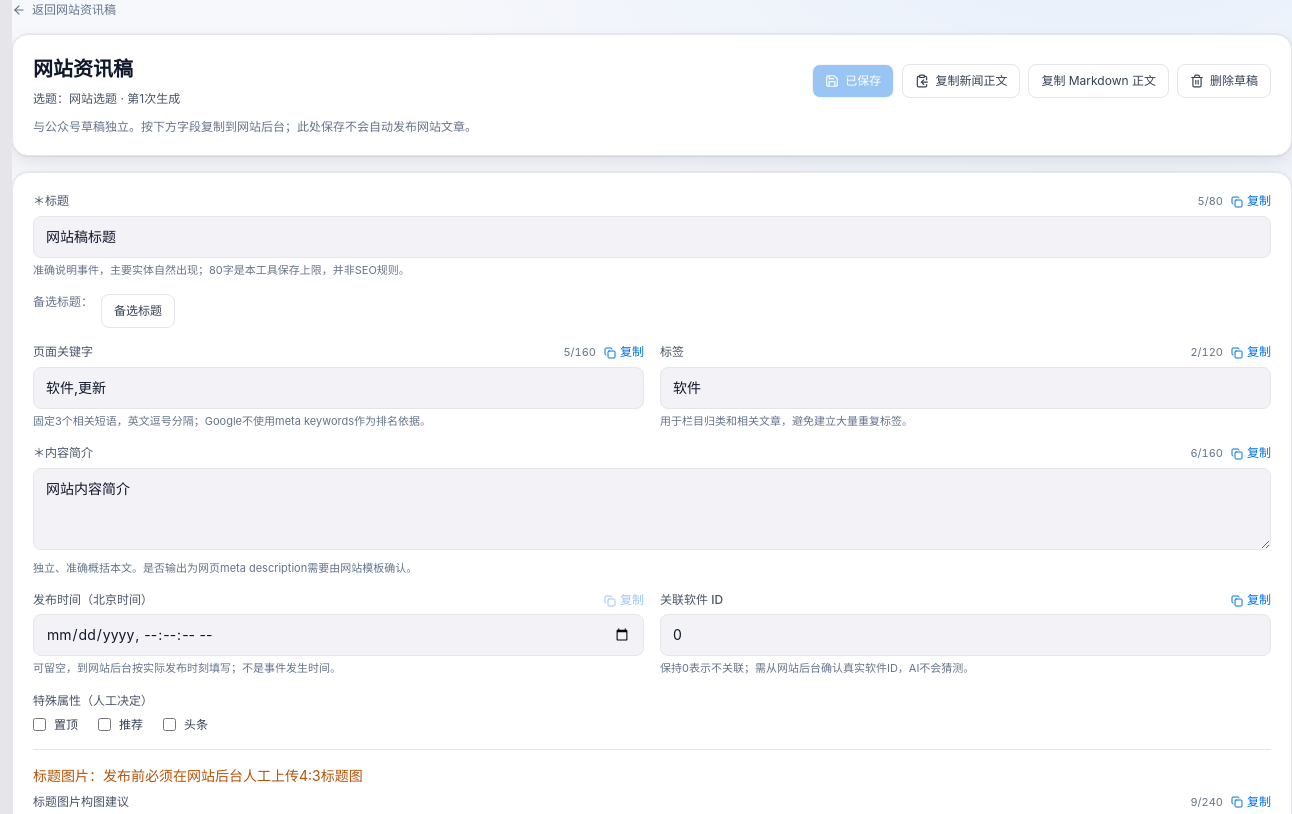
it: website CMS fields › clears reverted edits after a definite client-side save rejection
Replace the text in the field labelled "＊标题" with "无效提交": (652, 236) [33, 216, 1271, 258]
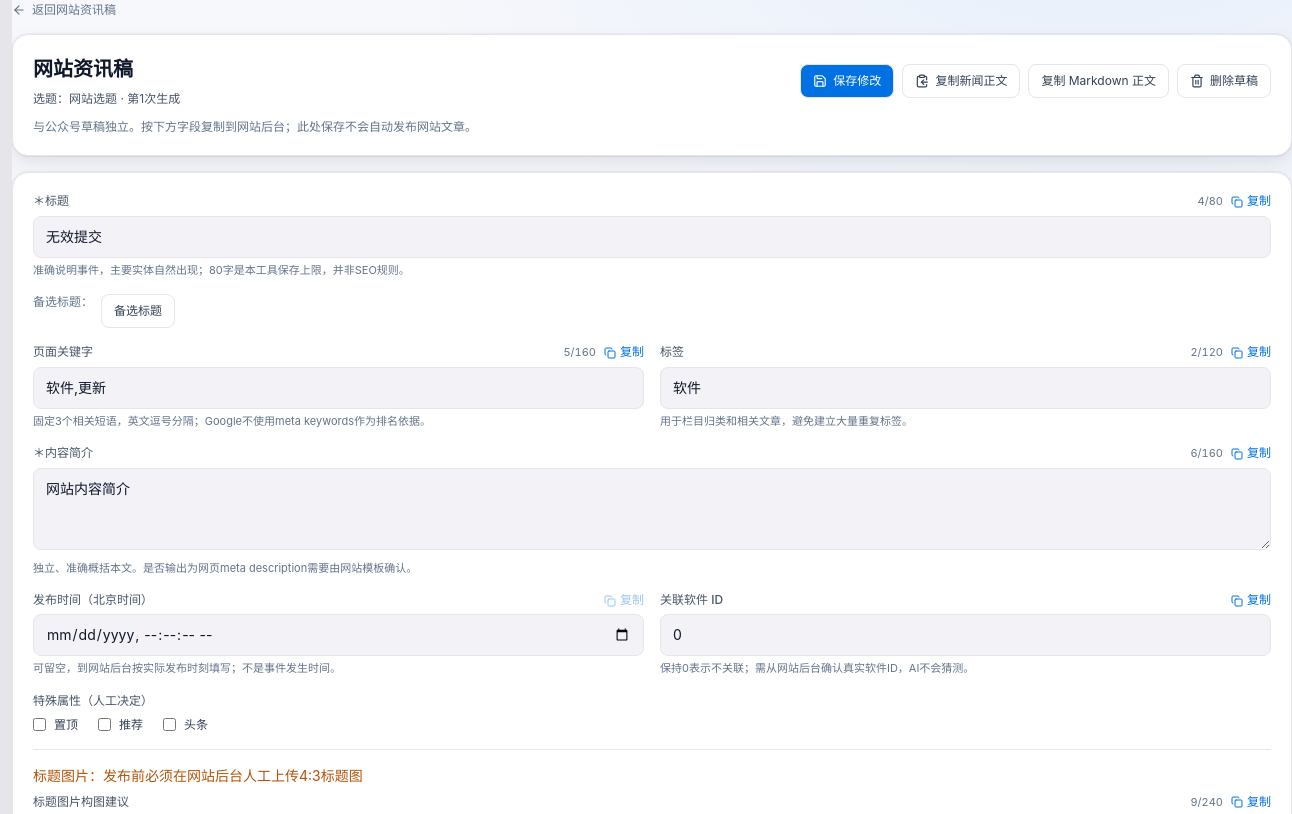
Click the button "保存修改": (847, 81) [800, 64, 894, 98]
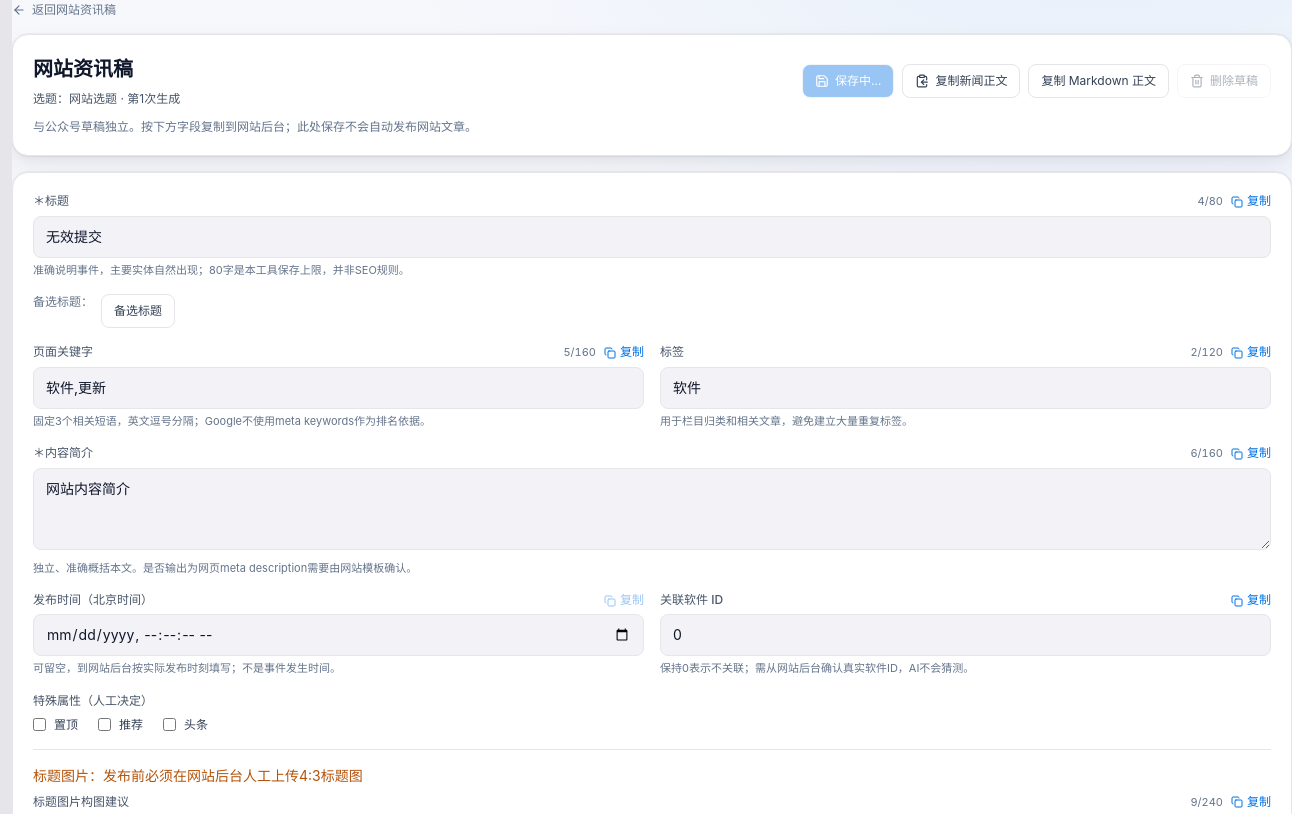
Replace the text in the field labelled "＊标题" with "网站稿标题": (652, 236) [33, 216, 1271, 258]
(page scrolled)
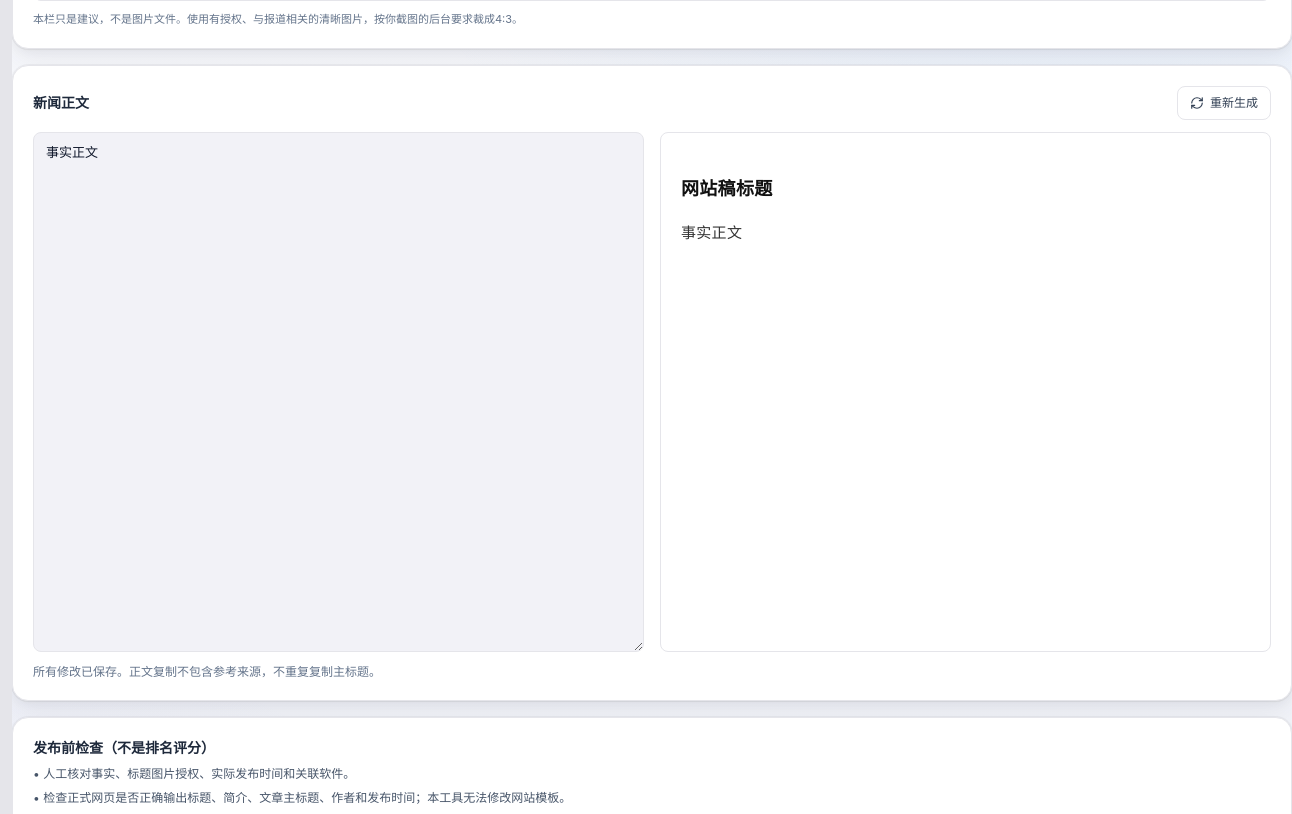
Now the text "所有修改已保存。正文复制不包含参考来源，不重复复制主标题。" is shown, box [33, 664, 381, 678]
